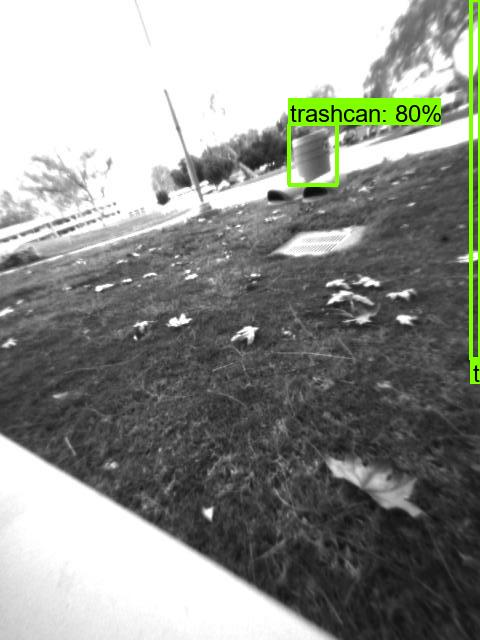trashcan: (287, 127, 336, 182)
